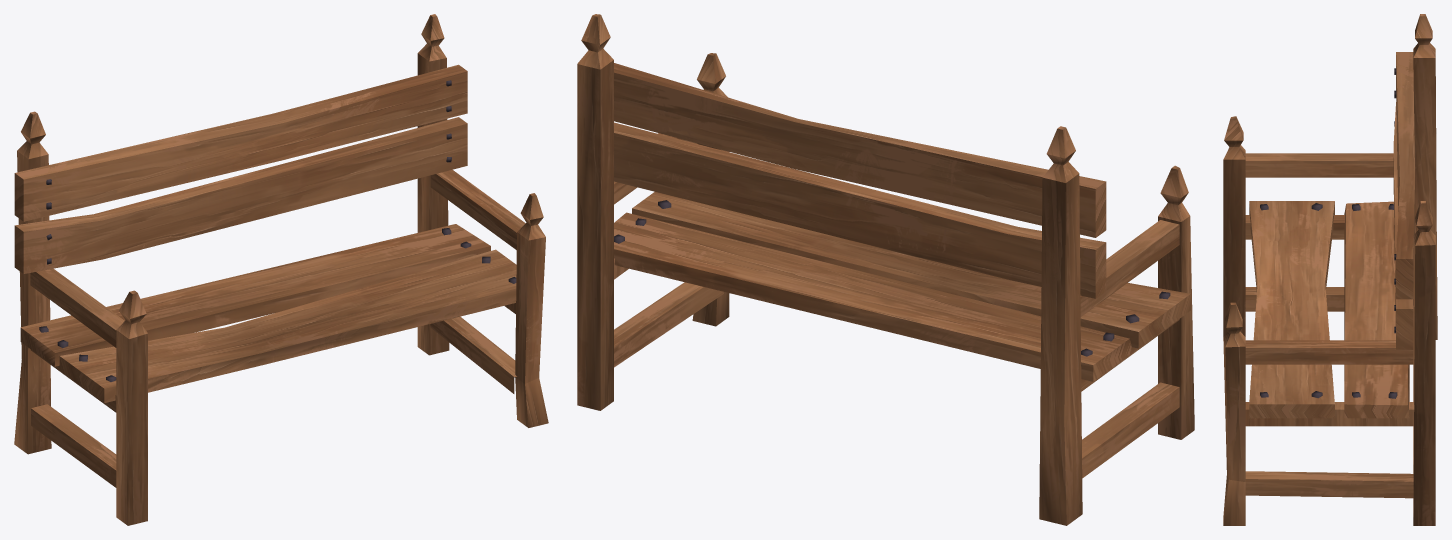
The model's file is Bench_2.fbx.
The picture shows the model from 3 angles, left to right: view 1: azimuth 30°, elevation 25°; view 2: azimuth 150°, elevation 25°; view 3: azimuth 270°, elevation 25°; orthographic projection. The views are drawn at different scales.
Visible parts, largest first — view 1: Bench_2; view 2: Bench_2; view 3: Bench_2.
Boxes of the visible parts, bbox=[...] form: Bench_2: bbox=[14, 14, 548, 525]; Bench_2: bbox=[577, 14, 1194, 525]; Bench_2: bbox=[1223, 14, 1437, 525].
Size of the model in its own units: 1.71 by 1.23 by 0.7492.
